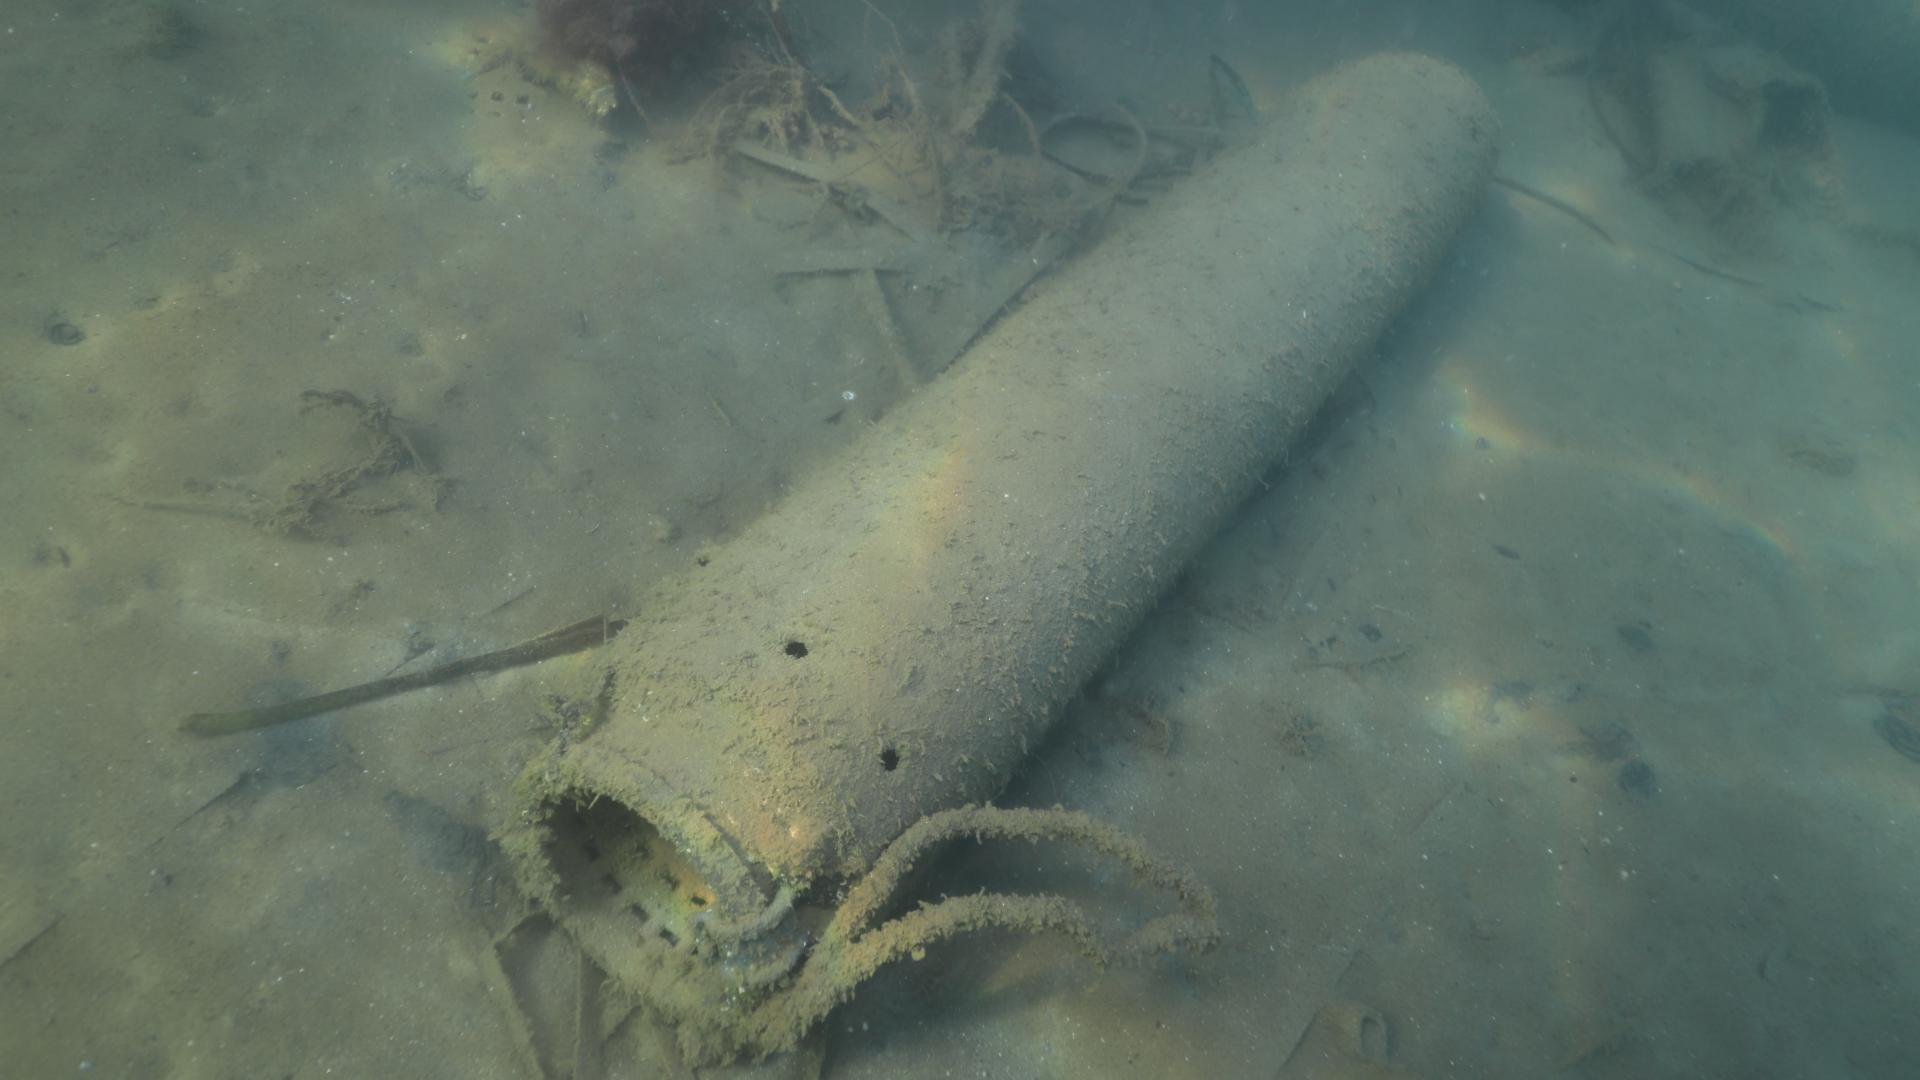bundle of ropes: (731, 802, 1221, 1062)
eel fish trap: (498, 51, 1495, 1043)
